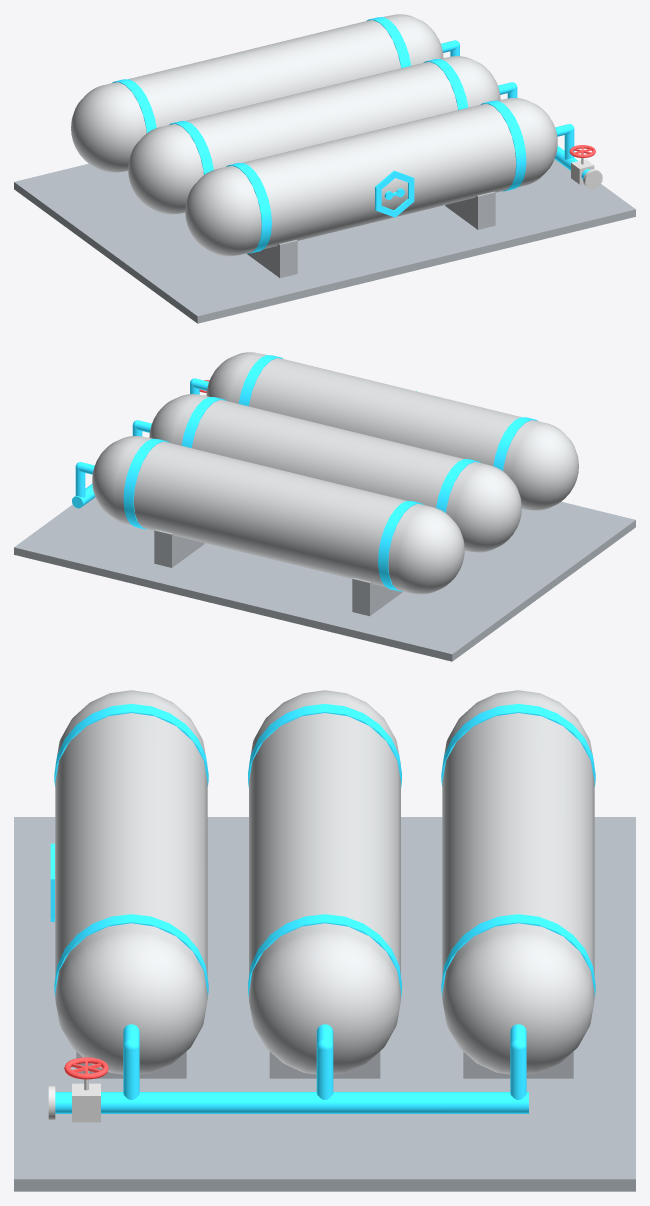
Rendered from H2Storage.glb.
3 views of the same model, one above another, from view 1: azimuth 30°, elevation 25°; view 2: azimuth 150°, elevation 25°; view 3: azimuth 270°, elevation 25° (orthographic). The views are drawn at different scales.
Parts seen in each view (by area): view 1: tank (×3), plinth, band (×6), saddle (×2), hex; view 2: tank (×3), plinth, band (×6), saddle (×2); view 3: tank (×3), plinth, band (×6), manifold, saddle (×3), pipe (×3), valve_body.
Part boxes in pixels (x1,y1,x2,y2): tank (×3): (71, 14, 557, 256); plinth: (14, 159, 635, 323); band (×6): (112, 17, 526, 253); saddle (×2): (247, 191, 495, 278); hex: (375, 170, 414, 217); tank (×3): (92, 352, 578, 594); plinth: (14, 497, 635, 661); band (×6): (123, 355, 537, 591); saddle (×2): (154, 529, 402, 616); tank (×3): (55, 690, 594, 1074); plinth: (14, 817, 635, 1191); band (×6): (54, 704, 595, 997); manifold: (55, 1092, 528, 1113); saddle (×3): (76, 1051, 573, 1078); pipe (×3): (123, 1047, 526, 1099); valve_body: (72, 1083, 100, 1122).
Size of the model in its own units: 12.4 by 3.02 by 9.
